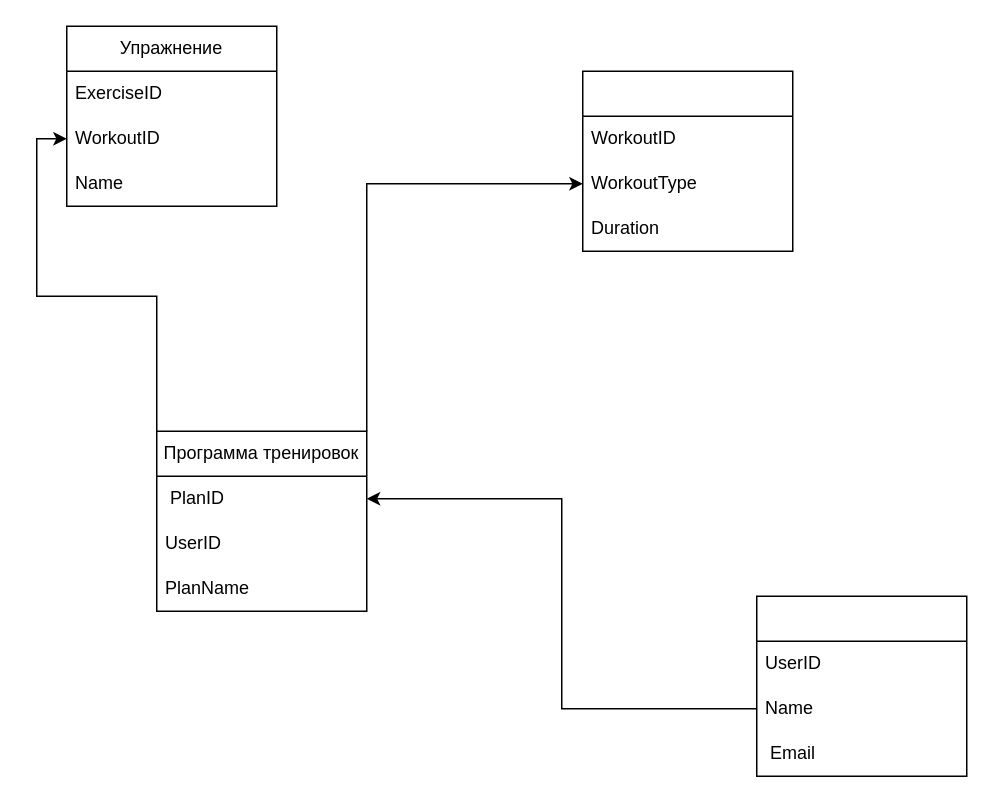
Some shapes in this 993 by 803 pixel diagram are drawn without their labels. The box of each missing label's shape, as (x1, y1, x2, y2) in pixels:
Пользователь: (755, 595, 967, 776)
Тренировка: (581, 70, 793, 251)
